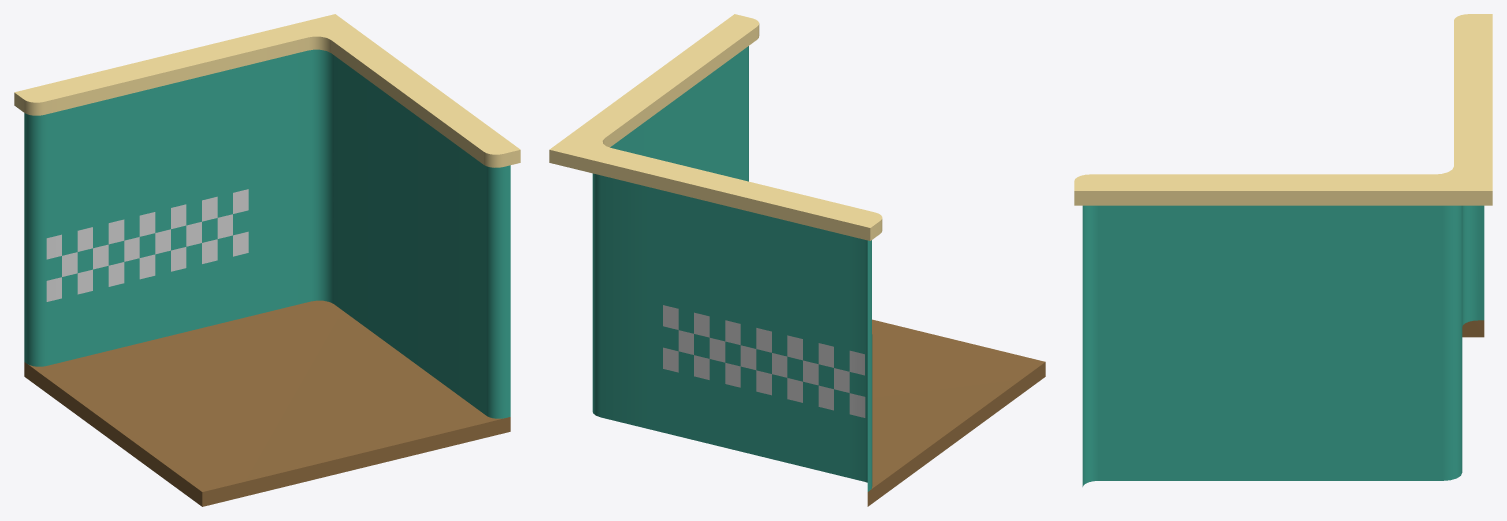
3 views of the same model, side by side, from view 1: azimuth 30°, elevation 25°; view 2: azimuth 150°, elevation 25°; view 3: azimuth 270°, elevation 25° (orthographic). The views are drawn at different scales.
Visible parts, largest first — view 1: 4BASE; view 2: 4BASE; view 3: 4BASE.
Boxes of the visible parts, x1,y1,x2,y2 form: 4BASE: [14, 14, 520, 506]; 4BASE: [549, 14, 1045, 506]; 4BASE: [1074, 14, 1492, 486].
Size of the model in its own units: 259 by 218 by 259.
